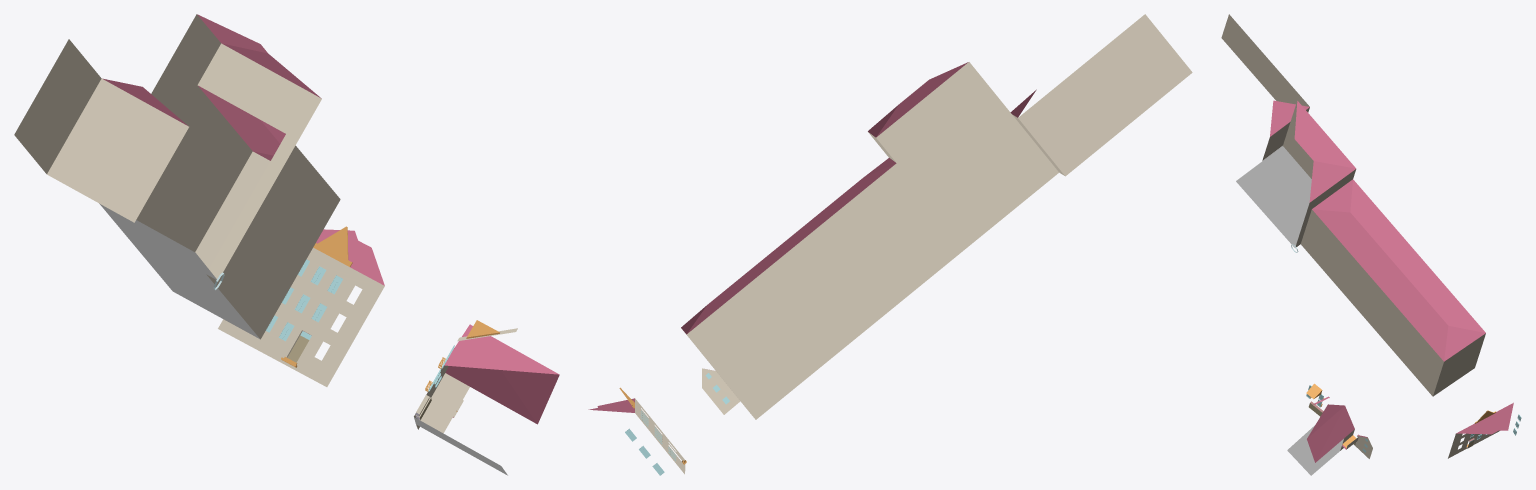
3 views of the same model, side by side, from view 1: azimuth 30°, elevation 25°; view 2: azimuth 150°, elevation 25°; view 3: azimuth 270°, elevation 25° (orthographic). The views are drawn at different scales.
Parts seen in each view (by area): view 1: mesh; view 2: mesh; view 3: mesh.
Part boxes in pixels (x1,y1,x2,y2): mesh: [14, 14, 559, 475]; mesh: [588, 14, 1192, 475]; mesh: [1221, 14, 1521, 475].
Size of the model in its own units: 74.99 by 70.93 by 58.77.
